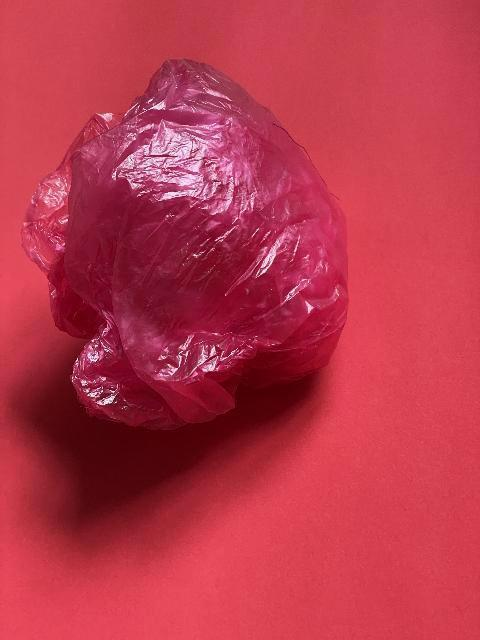plasticbag: (18, 55, 350, 432)
